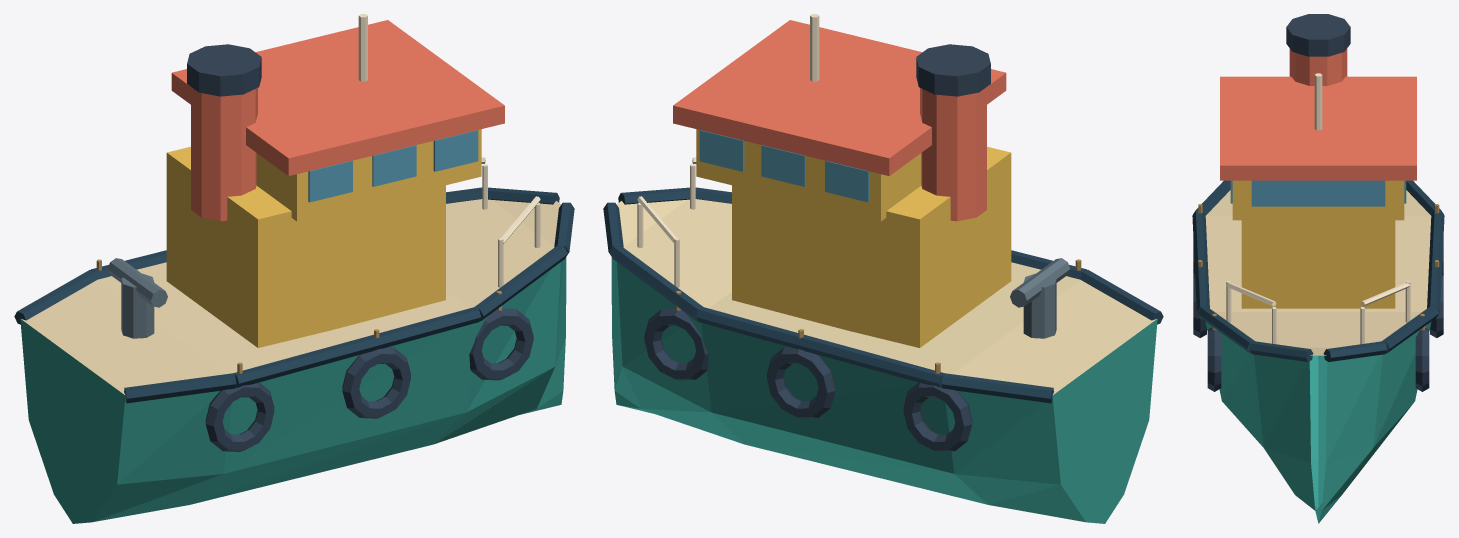
Rendered from boat-tugboat.glb.
3 renders of one model, left to right at view 1: azimuth 30°, elevation 25°; view 2: azimuth 150°, elevation 25°; view 3: azimuth 270°, elevation 25°, orthographic. The views are drawn at different scales.
Parts seen in each view (by area): view 1: hull, cabin, deck, roof, edge, fender, funnel, window, funnel_cap, tow_post, rail; view 2: hull, cabin, deck, roof, edge, fender, funnel, window, funnel_cap, tow_post, rail; view 3: hull, roof, cabin, deck, edge, window, fender, funnel_cap, rail, funnel.
Part boxes in pixels (x1,y1,x2,y2): hull: (20,257,566,523); cabin: (166,129,481,347); deck: (21,199,561,394); roof: (171,20,504,176); edge: (14,187,574,403); fender: (205,308,533,451); funnel: (191,87,257,221); window: (308,130,478,202); funnel_cap: (187,44,261,96); tow_post: (107,258,167,338); rail: (358,14,540,287); hull: (611,257,1157,523); cabin: (696,129,1011,347); deck: (616,199,1156,394); roof: (673,20,1006,176); edge: (603,187,1163,403); fender: (644,308,972,451); funnel: (920,87,986,221); window: (699,130,869,202); funnel_cap: (916,44,990,96); tow_post: (1010,258,1070,338); rail: (637,14,819,287); hull: (1205,321,1431,523); roof: (1220,76,1416,180); cabin: (1232,180,1404,308); deck: (1205,190,1431,355); edge: (1192,180,1444,361); window: (1230,180,1406,206); fender: (1193,239,1443,391); funnel_cap: (1286,14,1350,56); rail: (1226,73,1410,344); funnel: (1289,48,1347,85).
Size of the model in its own units: 4.36 by 3.67 by 2.28.
